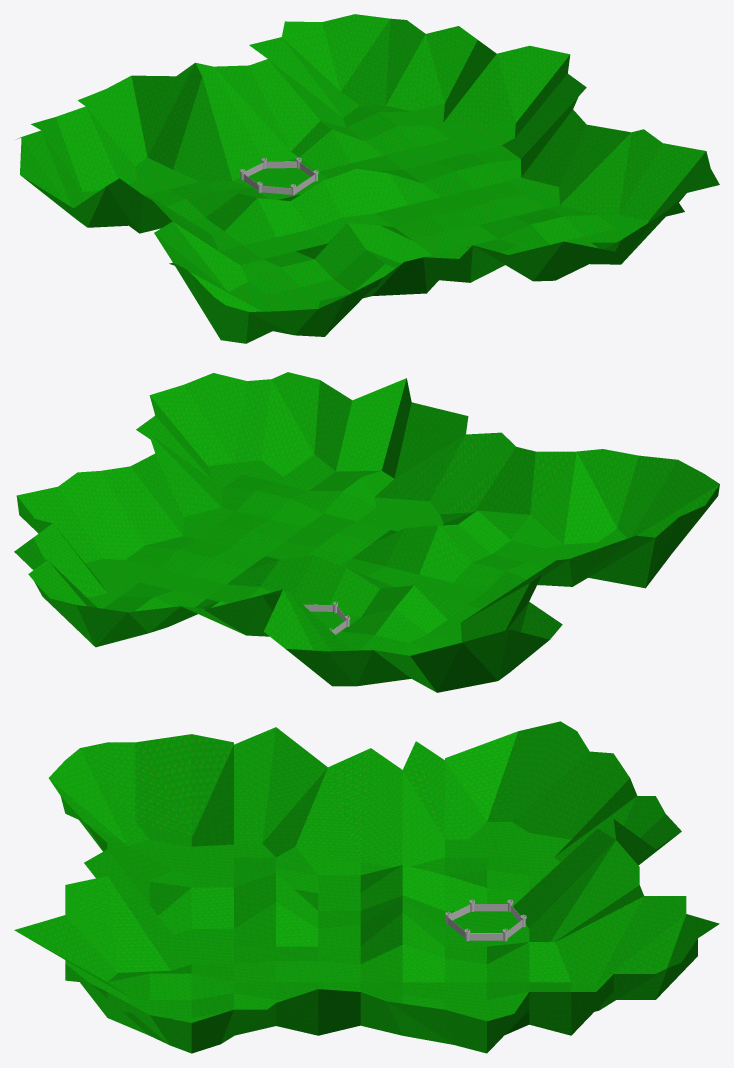
File: open_world_map.obj
3 views of the same model, one above another, from view 1: azimuth 30°, elevation 25°; view 2: azimuth 150°, elevation 25°; view 3: azimuth 270°, elevation 25° (orthographic). The views are drawn at different scales.
Parts seen in each view (by area): view 1: Plane; view 2: Plane; view 3: Plane.
Part boxes in pixels (x1,y1,x2,y2): Plane: [16, 14, 719, 343]; Plane: [14, 372, 719, 692]; Plane: [14, 721, 719, 1053].
Size of the model in its own units: 8082 by 1405 by 8264.
